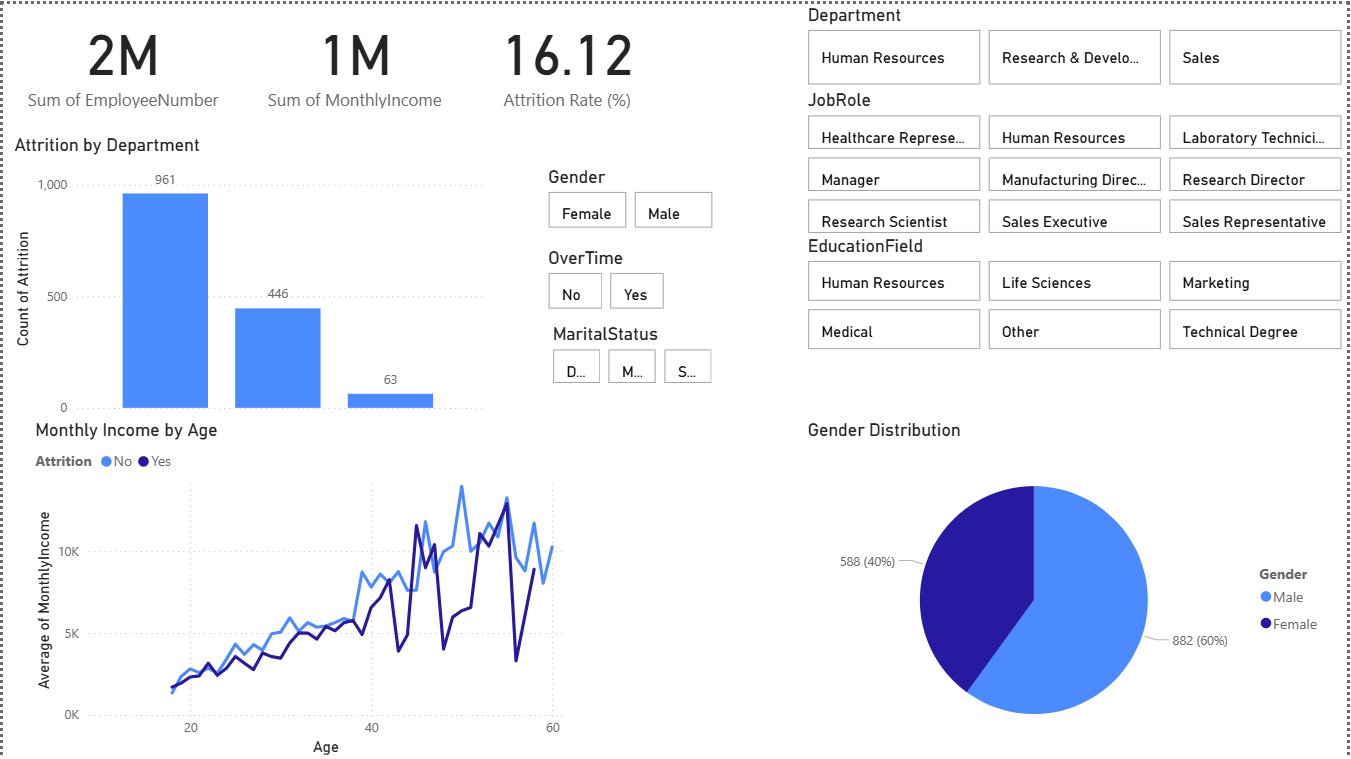

What the dashboard file says about the page in this screenshot:
{"tool":"powerbi","page":{"name":"Page 1","canvas":[1280,720],"ordinal":0},"visuals":[{"type":"clusteredColumnChart","title":"Attrition by Department","fields":{"Category":["WA_Fn-UseC_-HR-Employee-Attrition.Department"],"Y":["CountNonNull(WA_Fn-UseC_-HR-Employee-Attrition.Attrition)"]},"box":[6,124,456,324],"z":0},{"type":"advancedSlicerVisual","fields":{"Values":["WA_Fn-UseC_-HR-Employee-Attrition.Gender"]},"box":[514,154,250,64],"z":1000},{"type":"card","fields":{"Values":["Sum(HR-Employee-Attrition.EmployeeNumber)"]},"box":[0,0,228,104],"z":2000},{"type":"card","fields":{"Values":["Sum(HR-Employee-Attrition.MonthlyIncome)"]},"box":[228,0,212,104],"z":3000},{"type":"card","fields":{"Values":["HR-Employee-Attrition.Attrition Rate (%)"]},"box":[440,0,194,104],"z":4000},{"type":"lineChart","title":"Monthly Income by Age","fields":{"Category":["HR-Employee-Attrition.Age"],"Y":["Avg(HR-Employee-Attrition.MonthlyIncome)"],"Series":["HR-Employee-Attrition.Attrition"]},"box":[26,396,512,324],"z":5000},{"type":"advancedSlicerVisual","fields":{"Values":["HR-Employee-Attrition.Department"]},"box":[762,0,518,82],"z":6000},{"type":"advancedSlicerVisual","fields":{"Values":["HR-Employee-Attrition.JobRole"]},"box":[762,82,518,144],"z":7000},{"type":"advancedSlicerVisual","fields":{"Values":["HR-Employee-Attrition.OverTime"]},"box":[514,232,180,64],"z":8000},{"type":"advancedSlicerVisual","fields":{"Values":["HR-Employee-Attrition.MaritalStatus"]},"box":[518,304,162,62],"z":9000},{"type":"advancedSlicerVisual","fields":{"Values":["HR-Employee-Attrition.EducationField"]},"box":[762,220,518,114],"z":10000},{"type":"pieChart","title":"Gender Distribution","fields":{"Category":["HR-Employee-Attrition.Gender"],"Y":["CountNonNull(HR-Employee-Attrition.EmployeeNumber)"]},"box":[762,396,506,324],"z":11000}]}

Visuals, with their boxes in screenshot pixels (x1, y1, x2, y2), scaled from the page's 1280x720 canvas onto the 1351x759 screenshot:
"Attrition by Department" clusteredColumnChart: [left=6, top=131, right=488, bottom=472]
advancedSlicerVisual - WA_Fn-UseC_-HR-Employee-Attrition.Gender: [left=543, top=162, right=806, bottom=230]
card - Sum(HR-Employee-Attrition.EmployeeNumber): [left=0, top=0, right=241, bottom=110]
card - Sum(HR-Employee-Attrition.MonthlyIncome): [left=241, top=0, right=464, bottom=110]
card - HR-Employee-Attrition.Attrition Rate (%): [left=464, top=0, right=669, bottom=110]
"Monthly Income by Age" lineChart: [left=27, top=417, right=568, bottom=758]
advancedSlicerVisual - HR-Employee-Attrition.Department: [left=804, top=0, right=1350, bottom=86]
advancedSlicerVisual - HR-Employee-Attrition.JobRole: [left=804, top=86, right=1350, bottom=238]
advancedSlicerVisual - HR-Employee-Attrition.OverTime: [left=543, top=245, right=732, bottom=312]
advancedSlicerVisual - HR-Employee-Attrition.MaritalStatus: [left=547, top=320, right=718, bottom=386]
advancedSlicerVisual - HR-Employee-Attrition.EducationField: [left=804, top=232, right=1350, bottom=352]
"Gender Distribution" pieChart: [left=804, top=417, right=1338, bottom=758]
